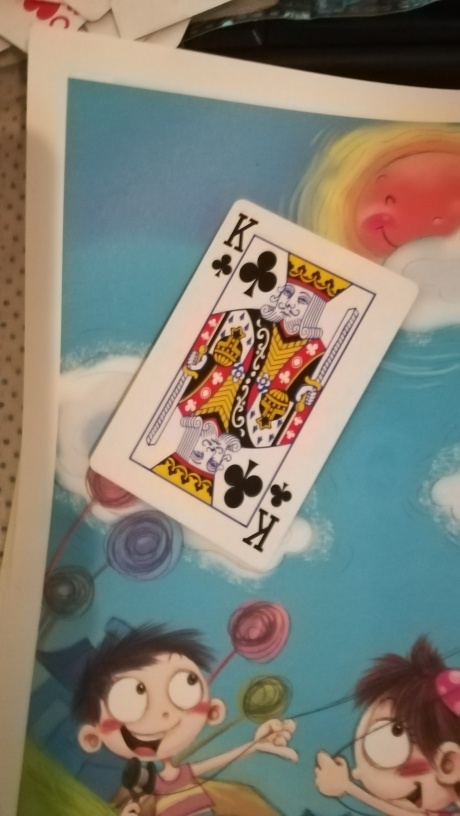mh k: (86, 195, 420, 572)
